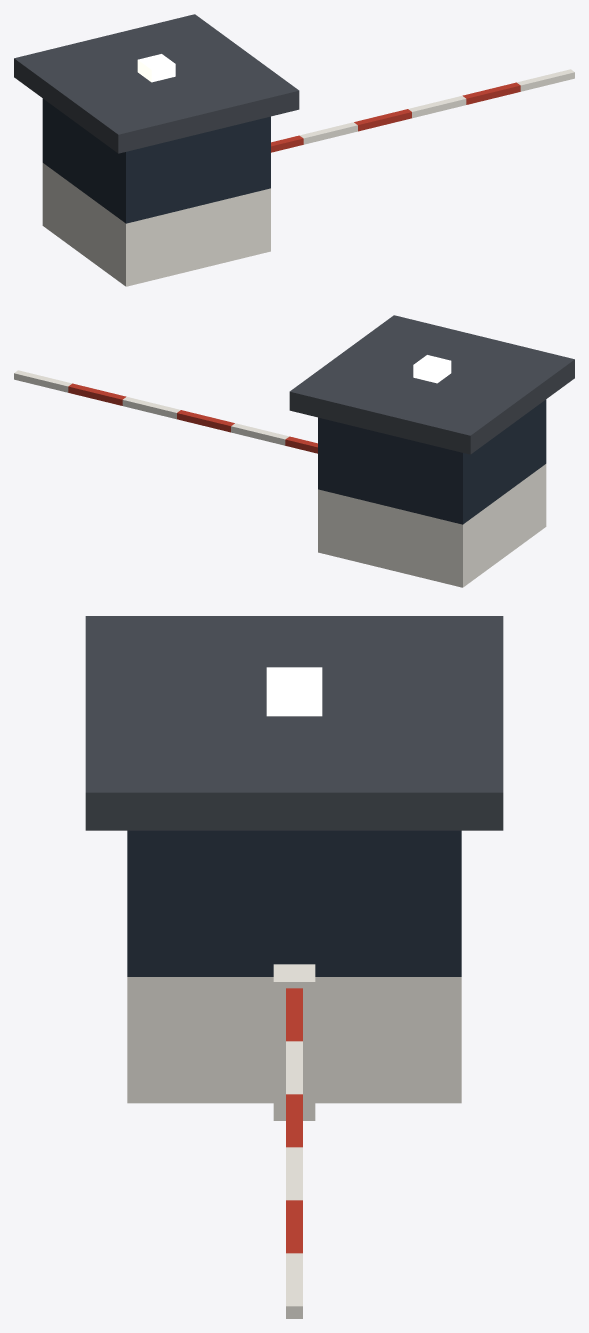
File: prop_lx_guard_booth.glb
3 renders of one model, top to bottom at view 1: azimuth 30°, elevation 25°; view 2: azimuth 150°, elevation 25°; view 3: azimuth 270°, elevation 25°, orthographic. The views are drawn at different scales.
Parts seen in each view (by area): view 1: prop_lx_guard_booth; view 2: prop_lx_guard_booth; view 3: prop_lx_guard_booth.
Boxes of the visible parts, <box> form: prop_lx_guard_booth: <box>14,14,574,286</box>; prop_lx_guard_booth: <box>14,315,574,587</box>; prop_lx_guard_booth: <box>85,616,503,1318</box>.
Size of what is drawn, in the model's own units: 8.4 by 2.8 by 3.
